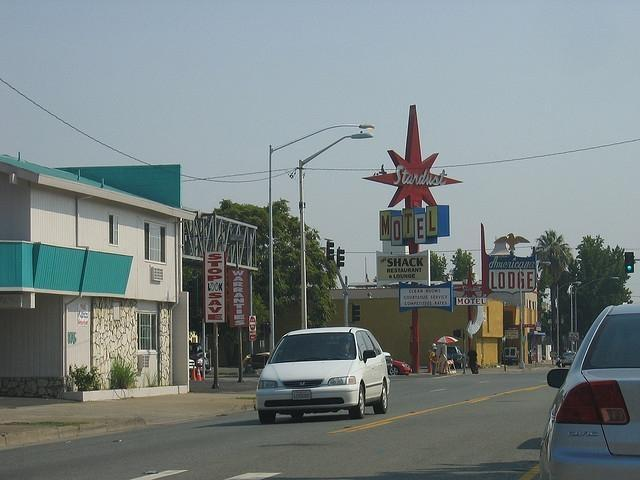car: (541, 302, 640, 474), (255, 327, 388, 423), (562, 352, 575, 368)
